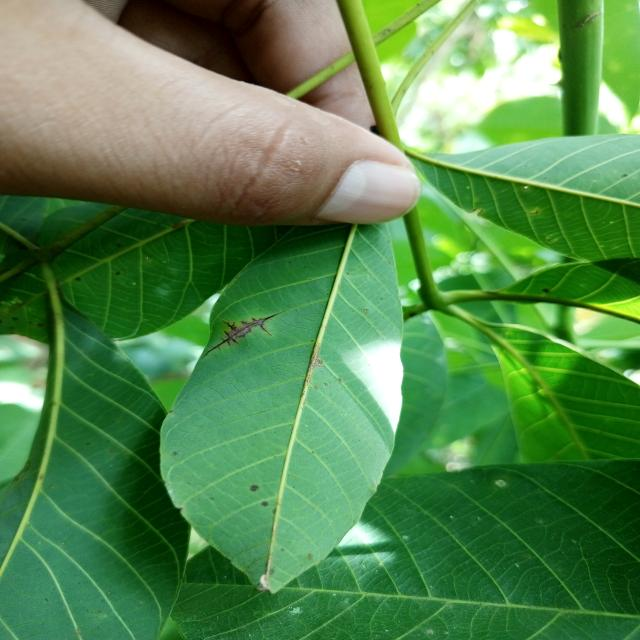Corynespora: (203, 312, 280, 357)
